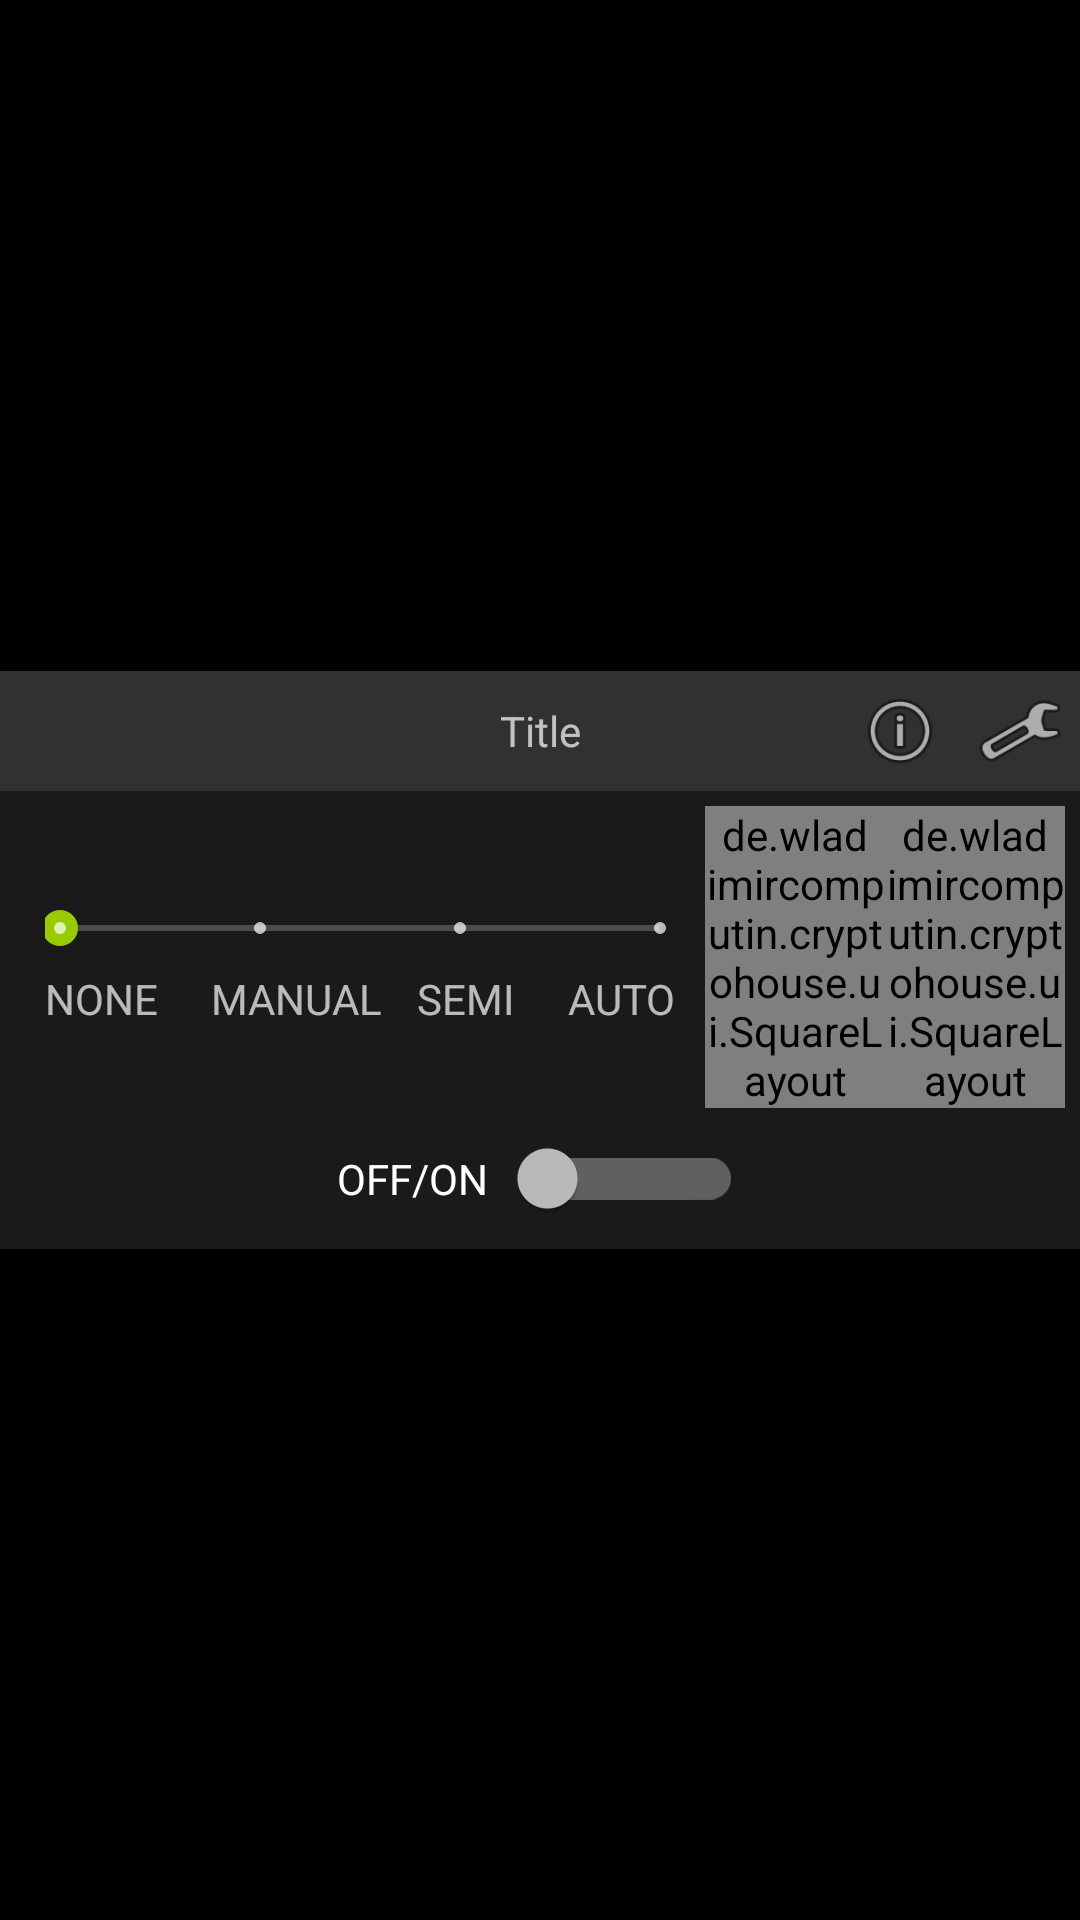

Screen size 1080*1920. Icon name, then its box in pixels as region(x1, y1, x2, y2):
info details: region(871, 702, 929, 760)
manage: region(982, 703, 1058, 759)
